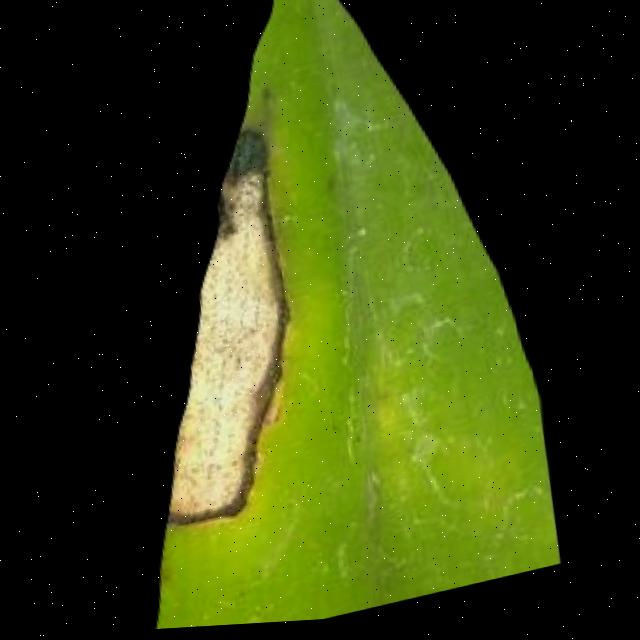mite: (227, 123, 279, 183)
sunburn: (116, 110, 331, 538)
